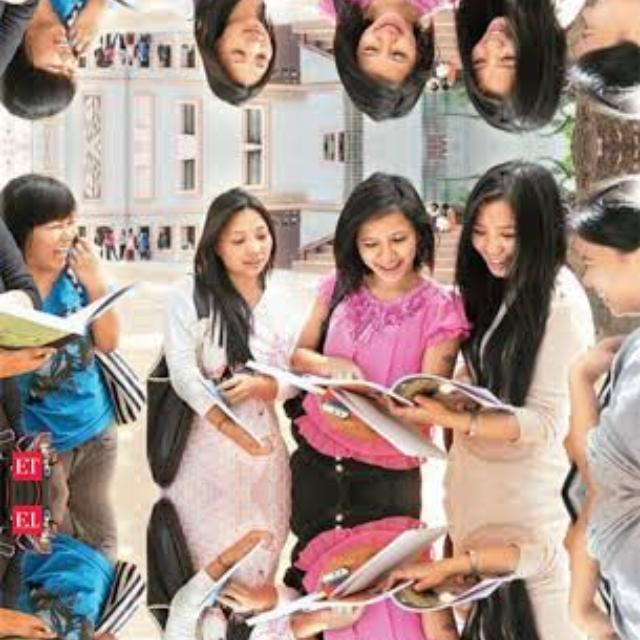person: (296, 166, 466, 492), (153, 168, 321, 492), (0, 162, 138, 492), (456, 158, 566, 492), (296, 492, 466, 640), (153, 492, 321, 640), (296, 0, 466, 126), (153, 0, 321, 124), (0, 492, 138, 640), (0, 0, 138, 130), (456, 492, 565, 640), (456, 0, 565, 134)
